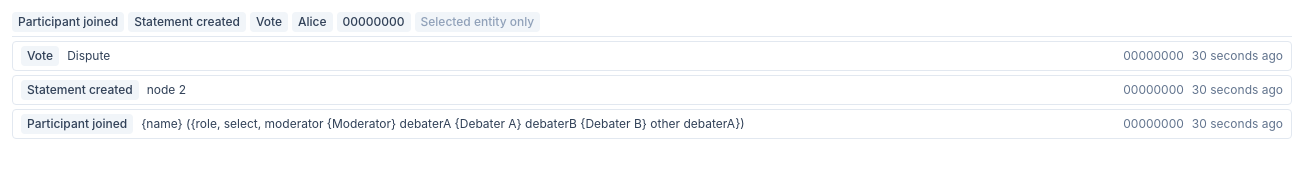
Test case: ChangeHistoryPane — filter strip (mod_history_filtering) › pressing a kind chip narrows the list to that kind and flips aria-pressed
expect the list with test id "change-history-pane-list" is shown: met, box 12,41 -> 1292,139
expect the number of list items with test id "change-history-row" is 3: met, box 12,41 -> 1292,71; 12,75 -> 1292,105; 12,109 -> 1292,139
What coordinates should you click on to do the following:
click the button with test id "change-history-filter-kind"
I would click on:
 (269, 22)
Its box is 250,12 -> 288,32.
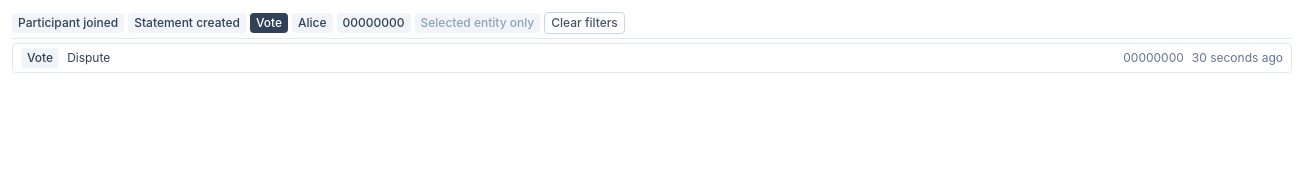
expect the number of list items with test id "change-history-row" is 1: met, box 12,43 -> 1292,73
